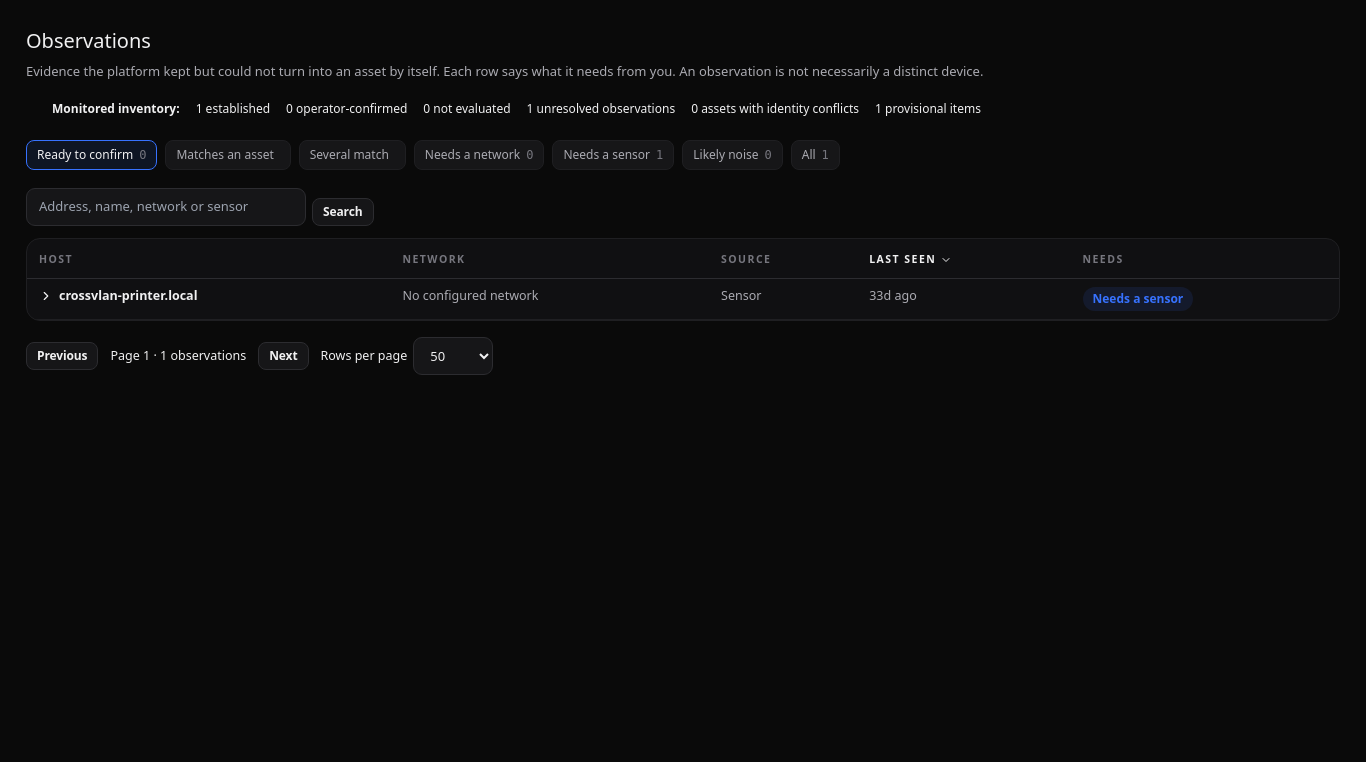
Scenario: explains an exhausted allowance as a promotion refusal, not a dropped sighting
Click the button "crossvlan-printer.local". click: click(118, 296)
box: [39,287,198,306]
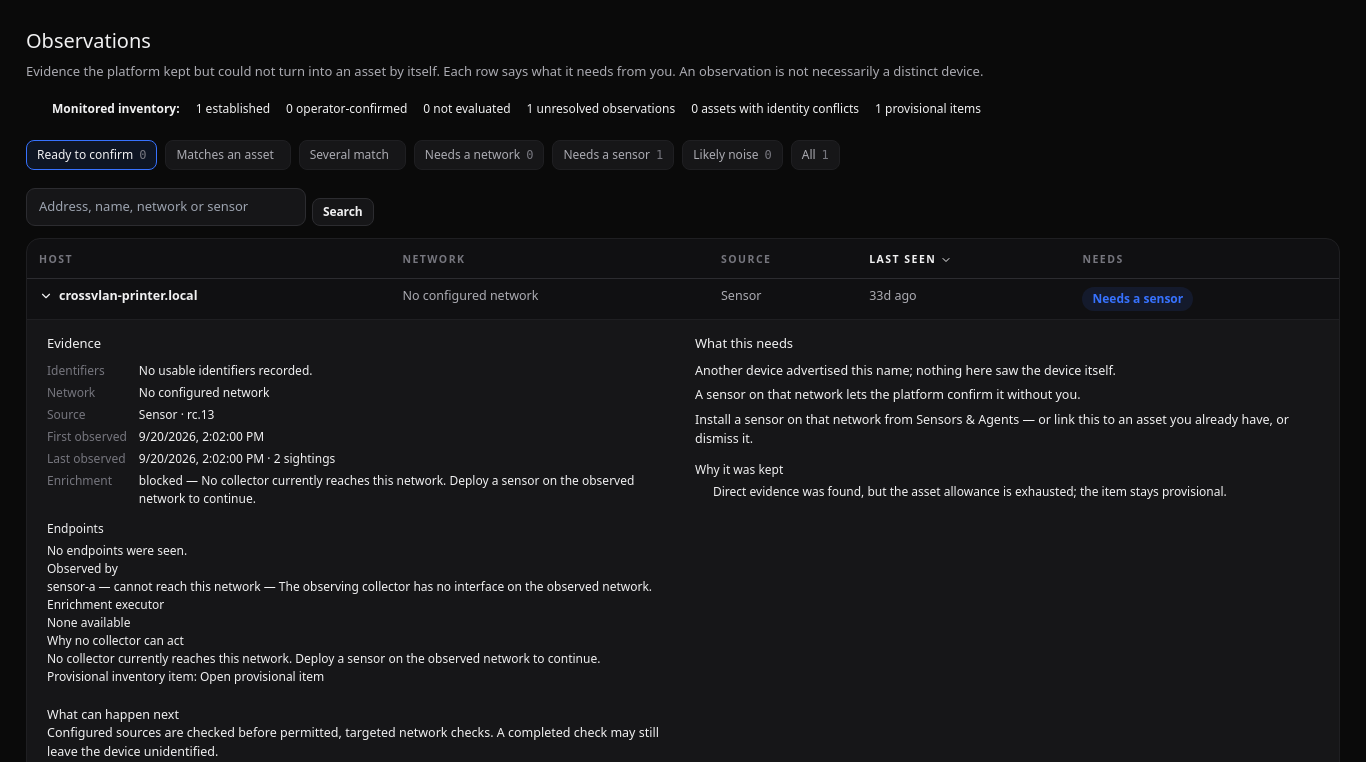
Check: the text "Direct evidence was found, but the asset allowance is exhausted; the item stays provisional." is shown, box [713,482,1227,500]
